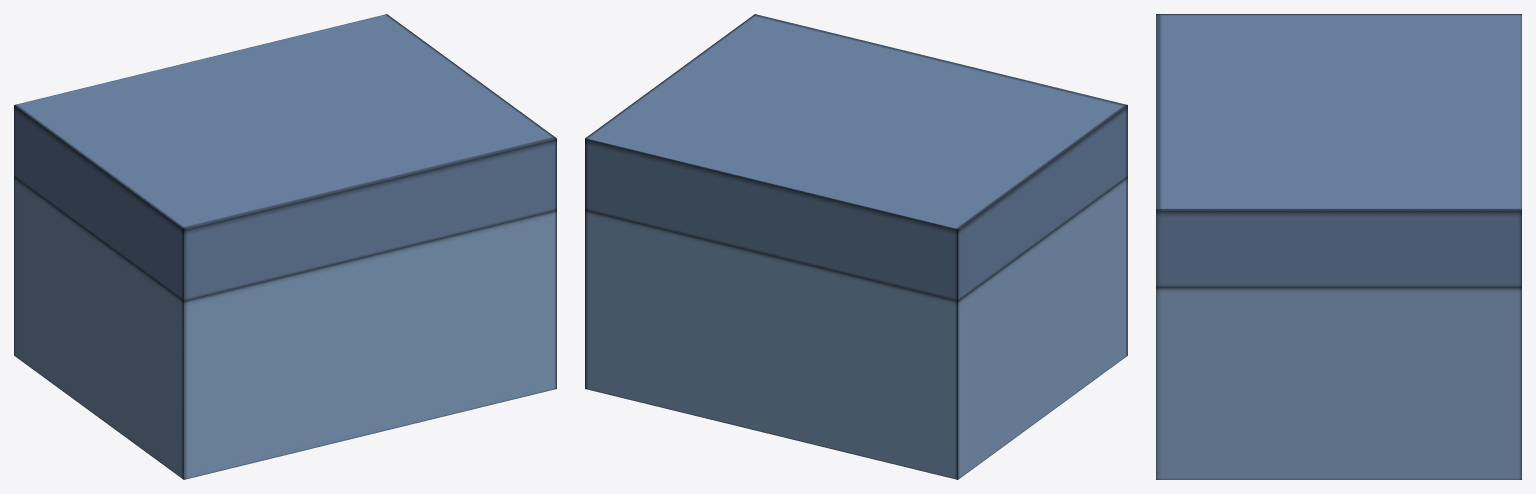
Rendered from case3.fbx.
3 views of the same model, side by side, from view 1: azimuth 30°, elevation 25°; view 2: azimuth 150°, elevation 25°; view 3: azimuth 270°, elevation 25° (orthographic). The views are drawn at different scales.
Parts seen in each view (by area): view 1: polySurface1560; view 2: polySurface1560; view 3: polySurface1560.
Boxes of the visible parts, x1,y1,x2,y2 form: polySurface1560: (14, 14, 556, 479); polySurface1560: (585, 14, 1127, 479); polySurface1560: (1156, 14, 1521, 479).
Size of the model in its own units: 0.3513 by 0.2256 by 0.277.
